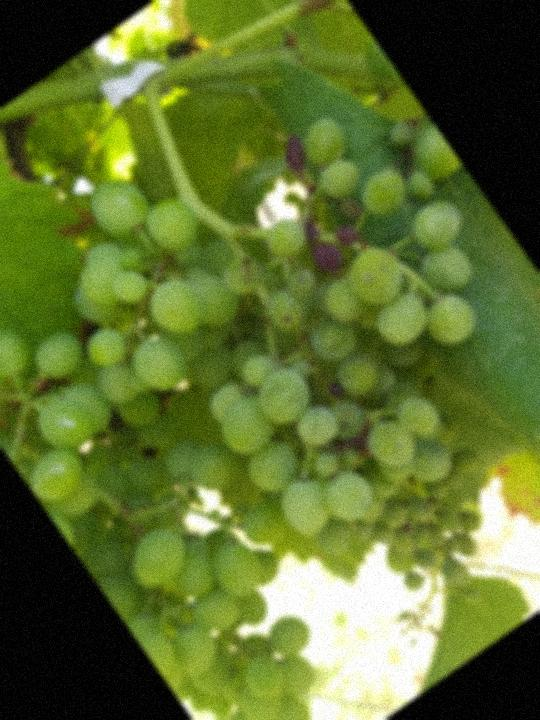grape: (1, 22, 540, 619)
